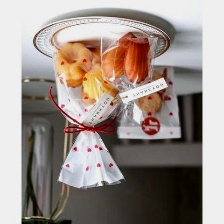snack: (44, 36, 138, 195), (92, 28, 164, 130), (110, 60, 185, 144)
